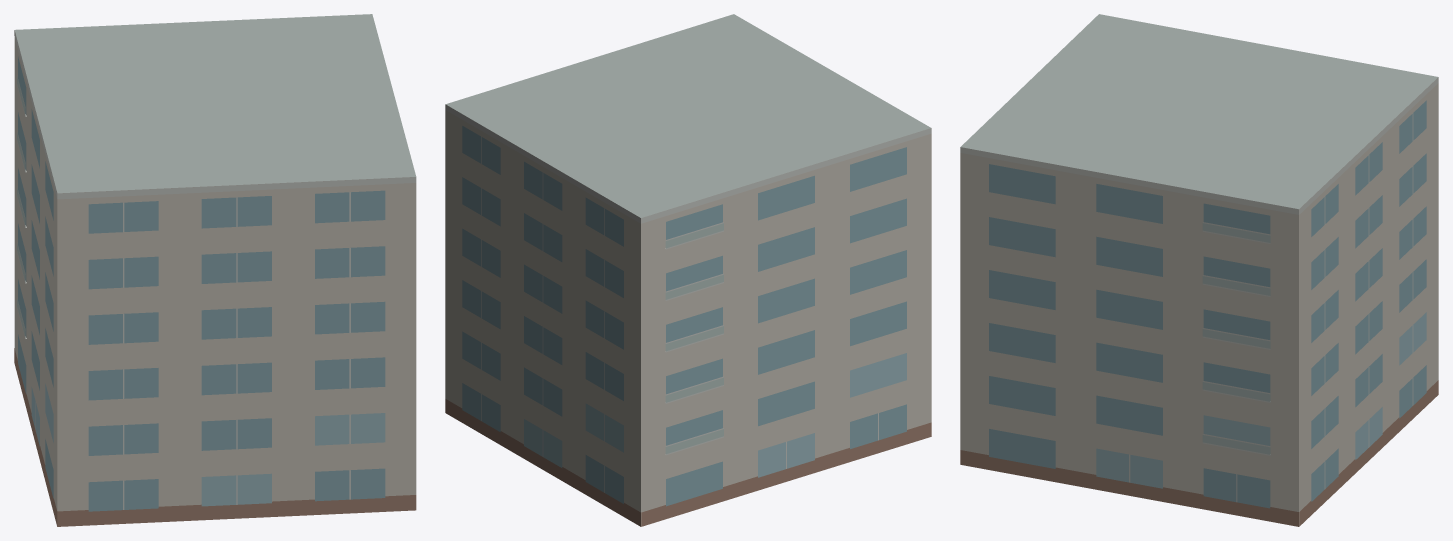
Rendered from survey-upis-32531533.glb.
The picture shows the model from 3 angles, left to right: view 1: azimuth 30°, elevation 25°; view 2: azimuth 150°, elevation 25°; view 3: azimuth 270°, elevation 25°; orthographic projection. The views are drawn at different scales.
Visible parts, largest first — view 1: survey-upis-32531533.tmp; view 2: survey-upis-32531533.tmp; view 3: survey-upis-32531533.tmp.
Part boxes in pixels (x1,y1,x2,y2): survey-upis-32531533.tmp: (14, 14, 416, 526); survey-upis-32531533.tmp: (445, 14, 931, 526); survey-upis-32531533.tmp: (960, 14, 1438, 526).
Bounding box in the file's own units: 17.6 × 13.35 × 18.22.
